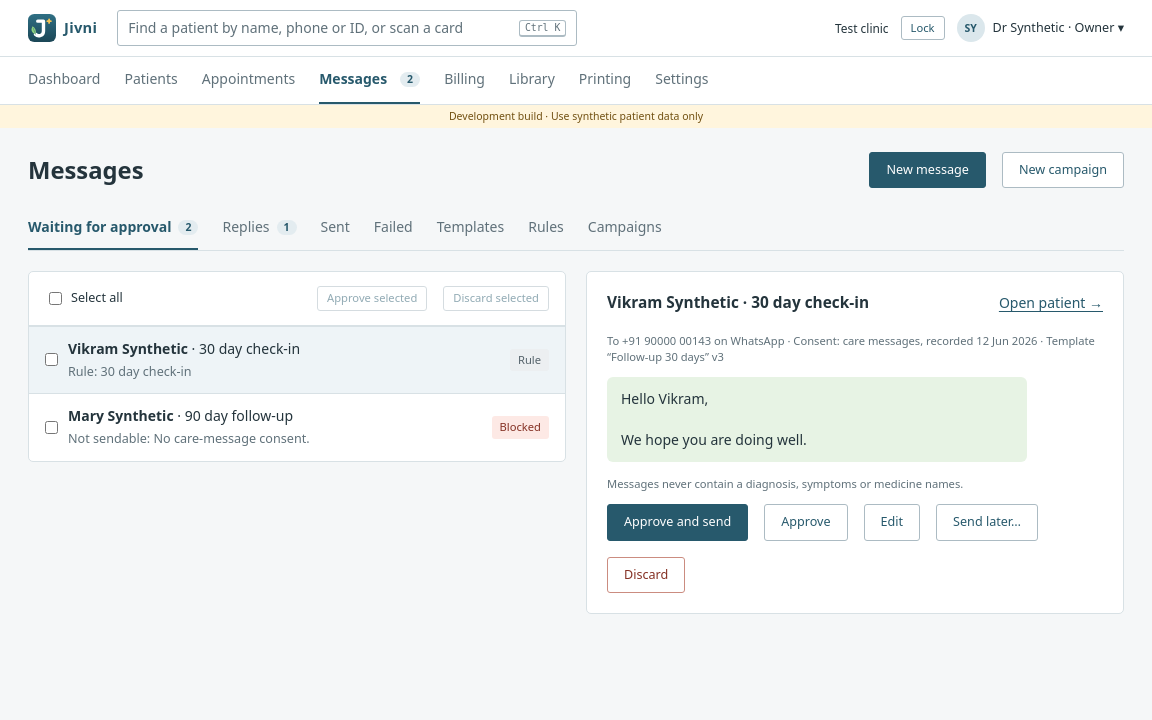
Test: messages › offers the link by hand when the browser stops the new window
Click the button "Approve and send" at (678, 522), box [607,504,748,541]
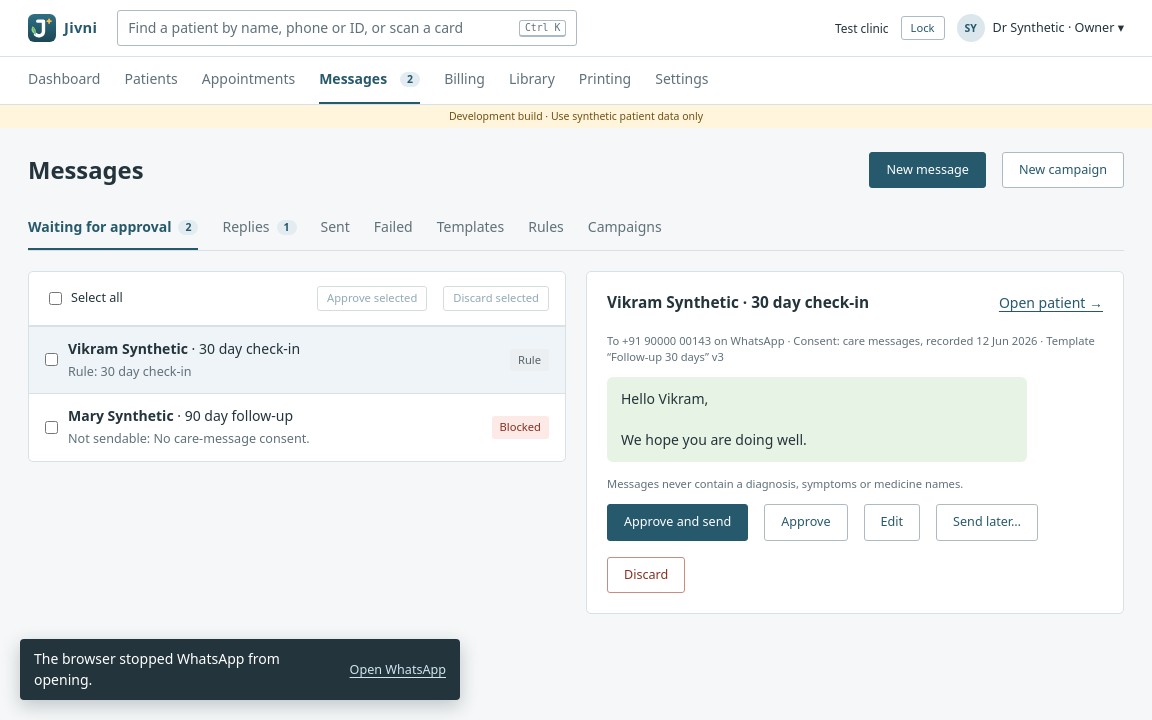
Expected: the text "The browser stopped WhatsApp from opening." is shown, [34,649,280,689]
Expected: the button "Open WhatsApp" is shown, [350,661,446,679]
